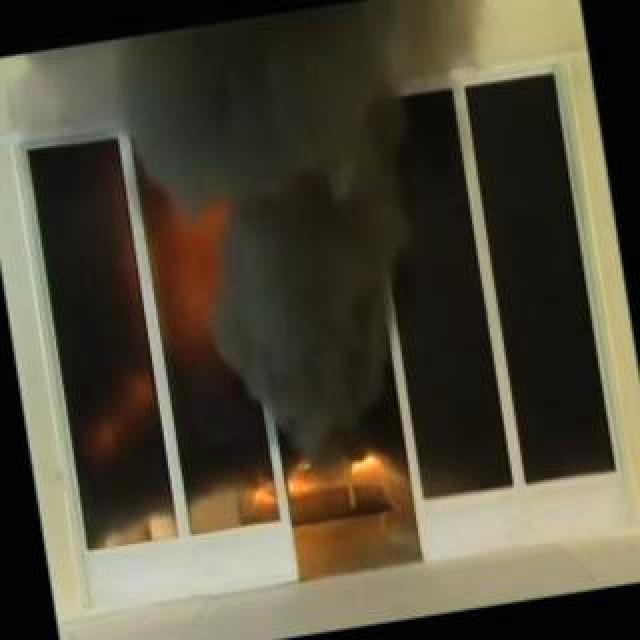fire: (237, 430, 403, 524)
smoke: (129, 4, 459, 432)
